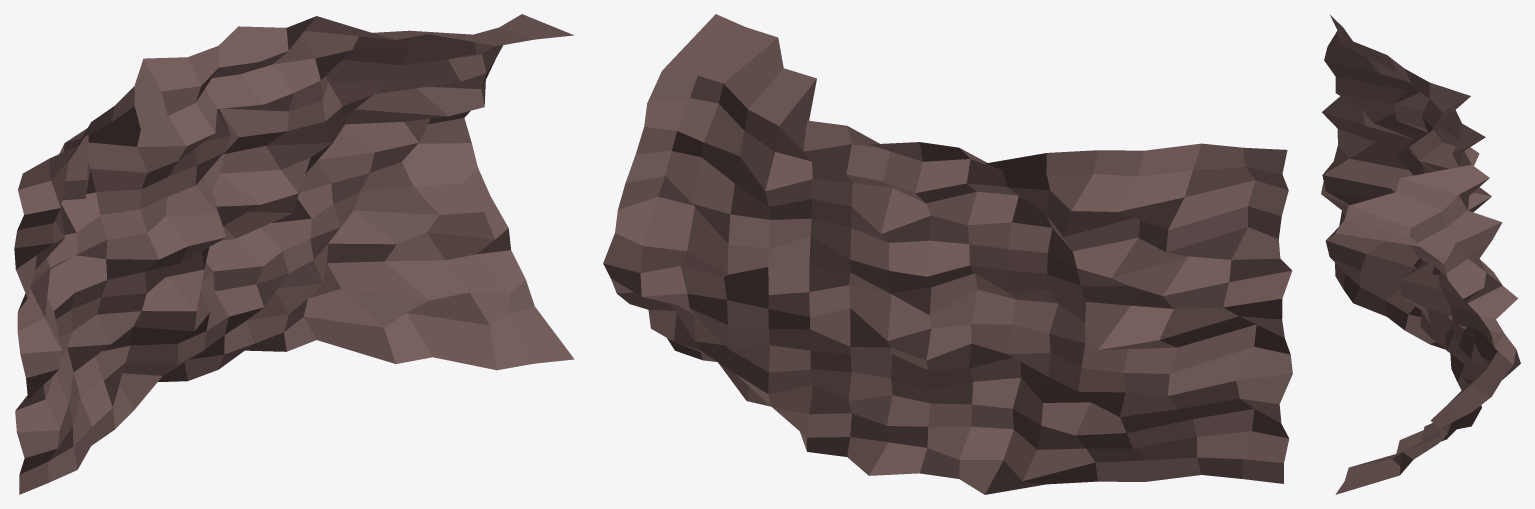
Rendered from Cave Wall - Right Open.fbx.
The picture shows the model from 3 angles, left to right: view 1: azimuth 30°, elevation 25°; view 2: azimuth 150°, elevation 25°; view 3: azimuth 270°, elevation 25°; orthographic projection. The views are drawn at different scales.
Visible parts, largest first — view 1: Cave Wall 2.001; view 2: Cave Wall 2.001; view 3: Cave Wall 2.001.
Boxes of the visible parts, bbox=[...] form: Cave Wall 2.001: bbox=[14, 14, 574, 494]; Cave Wall 2.001: bbox=[603, 14, 1292, 494]; Cave Wall 2.001: bbox=[1321, 15, 1520, 494].
Size of the model in its own units: 3319 by 1850 by 1280.
